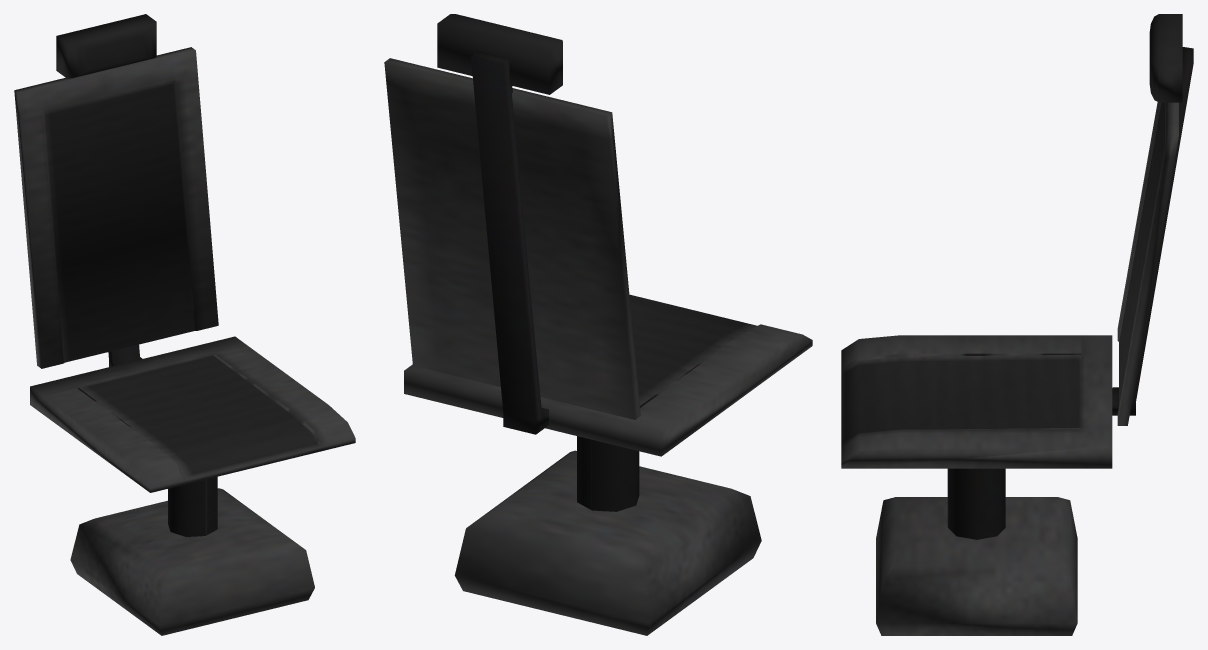
The model's file is chair_1.glb.
3 views of the same model, side by side, from view 1: azimuth 30°, elevation 25°; view 2: azimuth 150°, elevation 25°; view 3: azimuth 270°, elevation 25° (orthographic). The views are drawn at different scales.
Visible parts, largest first — view 1: Chair; view 2: Chair; view 3: Chair.
Boxes of the visible parts, x1=… form: Chair: x1=14, y1=14, x2=355, y2=635; Chair: x1=384, y1=14, x2=812, y2=635; Chair: x1=841, y1=14, x2=1193, y2=635.
Size of the model in its own units: 0.5852 by 1.35 by 0.7737.
2 materials, 1 textured.
